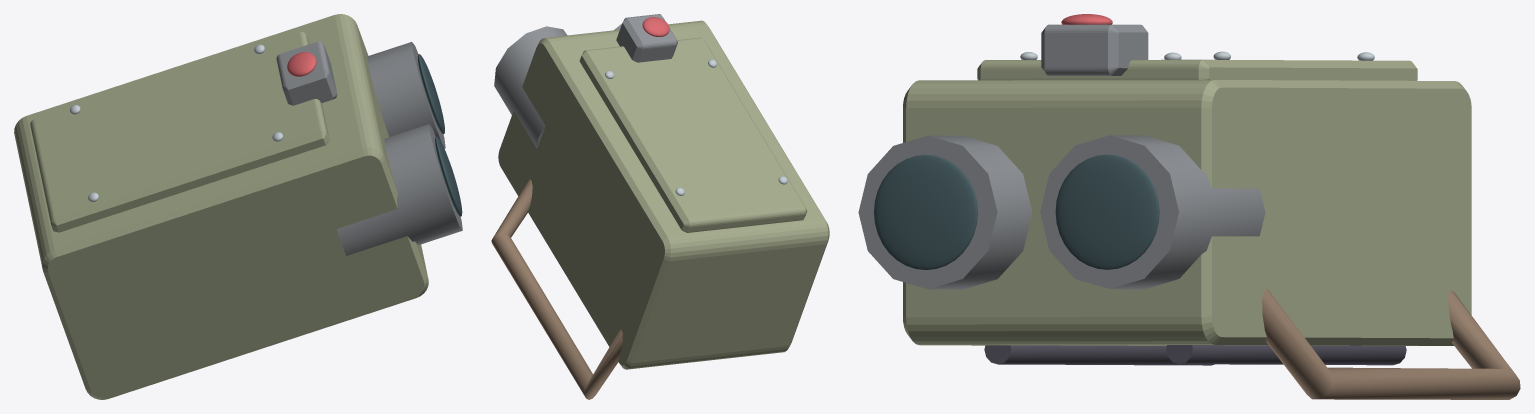
Rendered from soflam.glb.
3 views of the same model, side by side, from view 1: azimuth 30°, elevation 25°; view 2: azimuth 150°, elevation 25°; view 3: azimuth 270°, elevation 25° (orthographic). The views are drawn at different scales.
Bounding box in the file's own units: 23 × 18.43 × 24.22.
